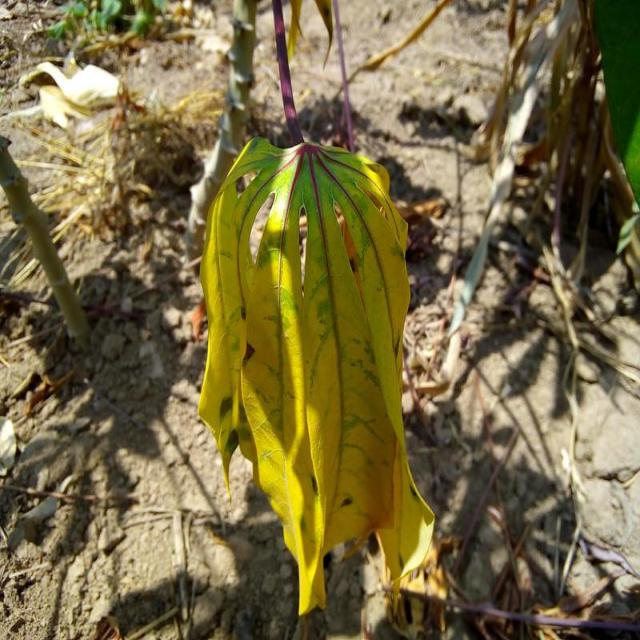cassava leaf: (198, 134, 436, 616)
